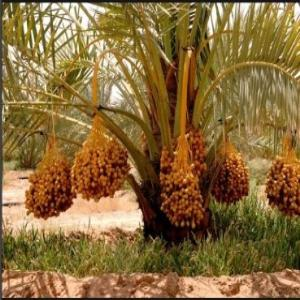palm tree: (1, 1, 299, 243)
